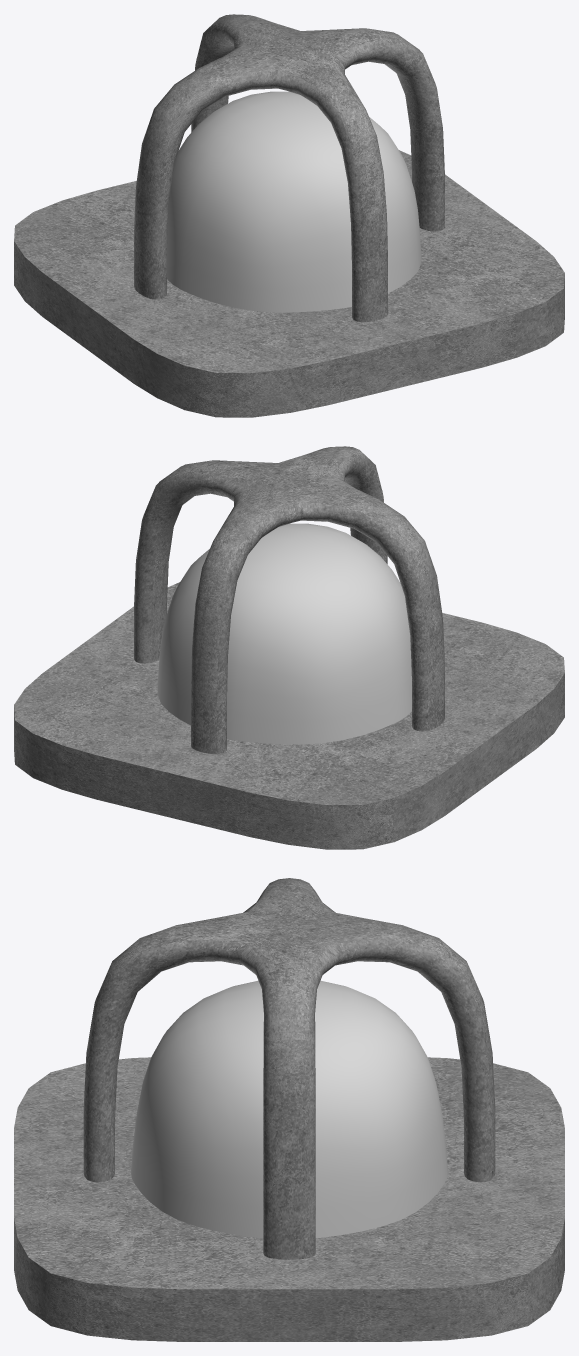
File: wall-lamp.fbx
3 renders of one model, top to bottom at view 1: azimuth 30°, elevation 25°; view 2: azimuth 150°, elevation 25°; view 3: azimuth 270°, elevation 25°, orthographic. The views are drawn at different scales.
Parts seen in each view (by area): view 1: Cube.001; view 2: Cube.001; view 3: Cube.001.
Part boxes in pixels (x1,y1,x2,y2): Cube.001: (14, 14, 564, 417); Cube.001: (14, 446, 564, 849); Cube.001: (14, 878, 564, 1341).
Bounding box in the file's own units: 0.4154 × 0.2501 × 0.4154.
2 materials, 1 textured.
